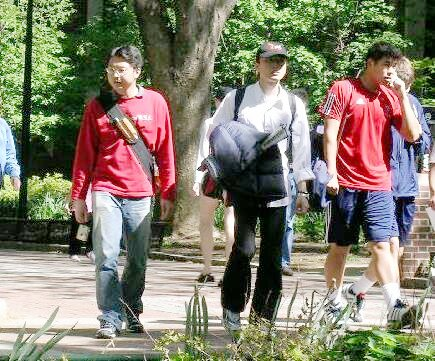person: (74, 42, 178, 342), (321, 37, 423, 329), (207, 37, 303, 332)
